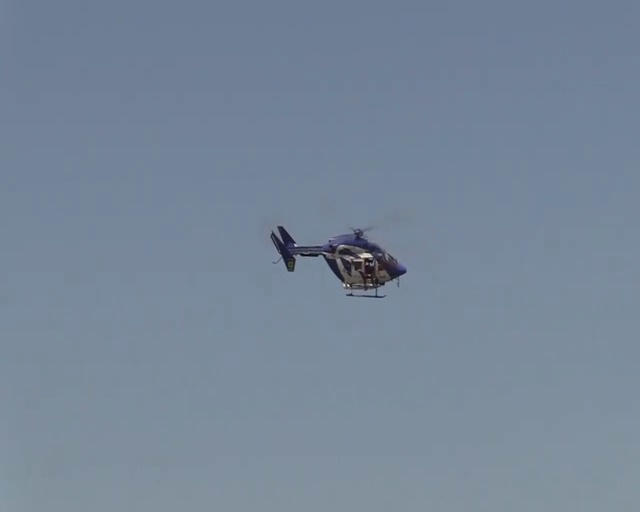HELICOPTER: (271, 224, 408, 299)
